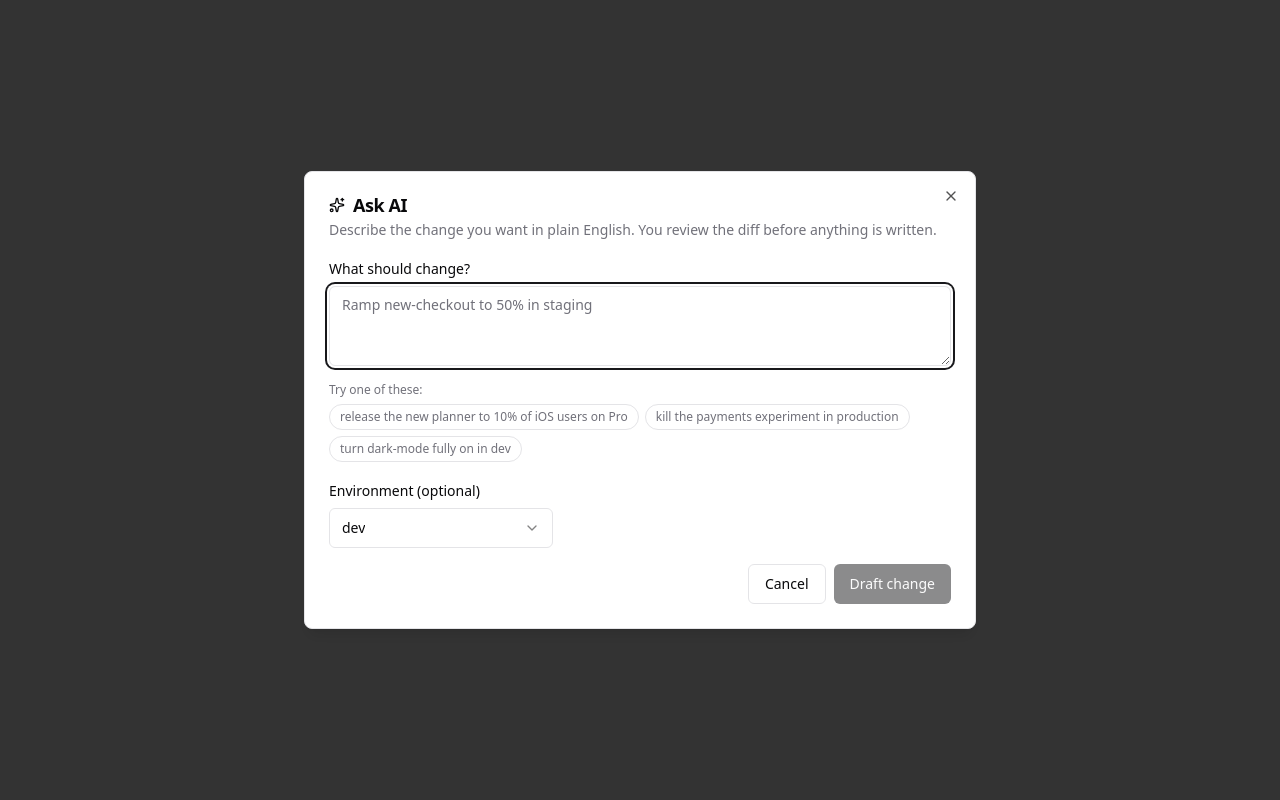
Test: AskAiDialog › shows a real failure as an error and leaves submit usable
The width and height of the screenshot is (1280, 800).
In the text box with test id "ask-ai-prompt": (640, 326) [329, 286, 951, 366], type "turn dark-mode fully on in dev"
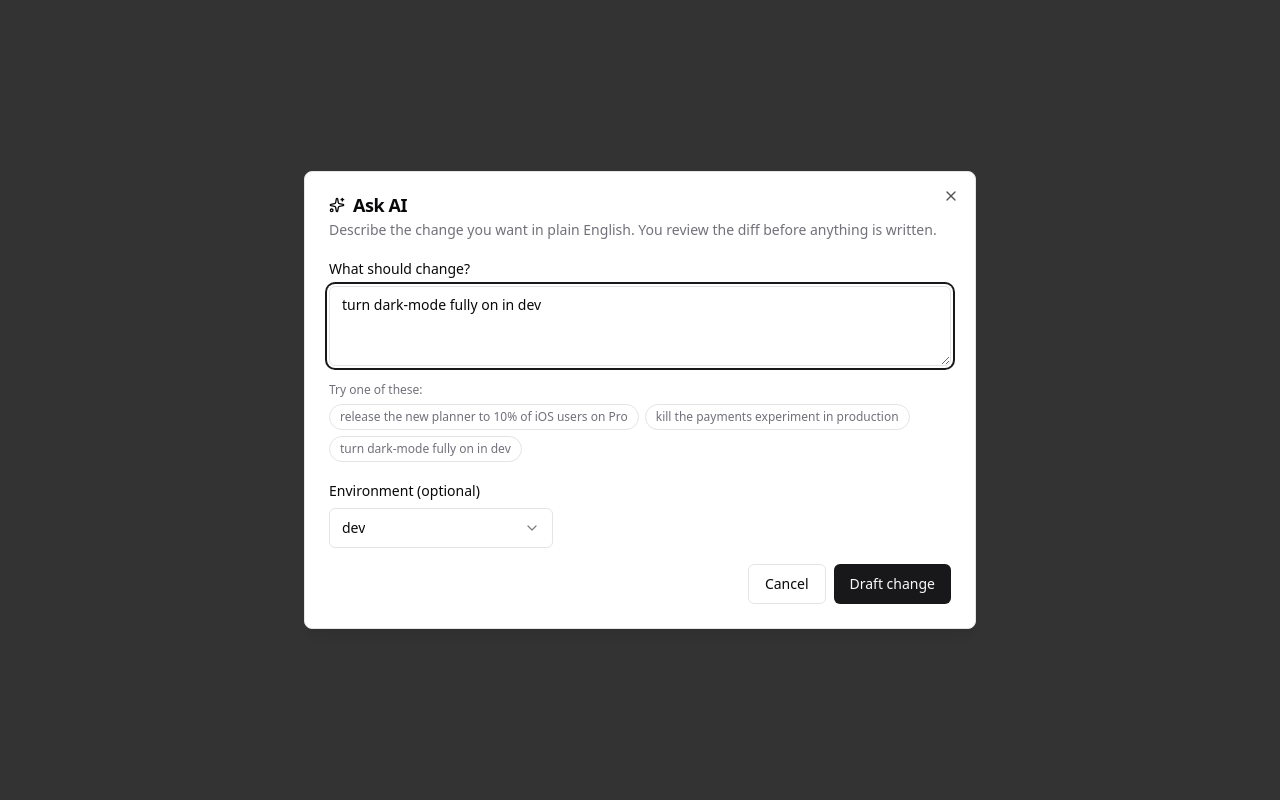
Click the button with test id "ask-ai-submit": (892, 584) [834, 564, 951, 604]
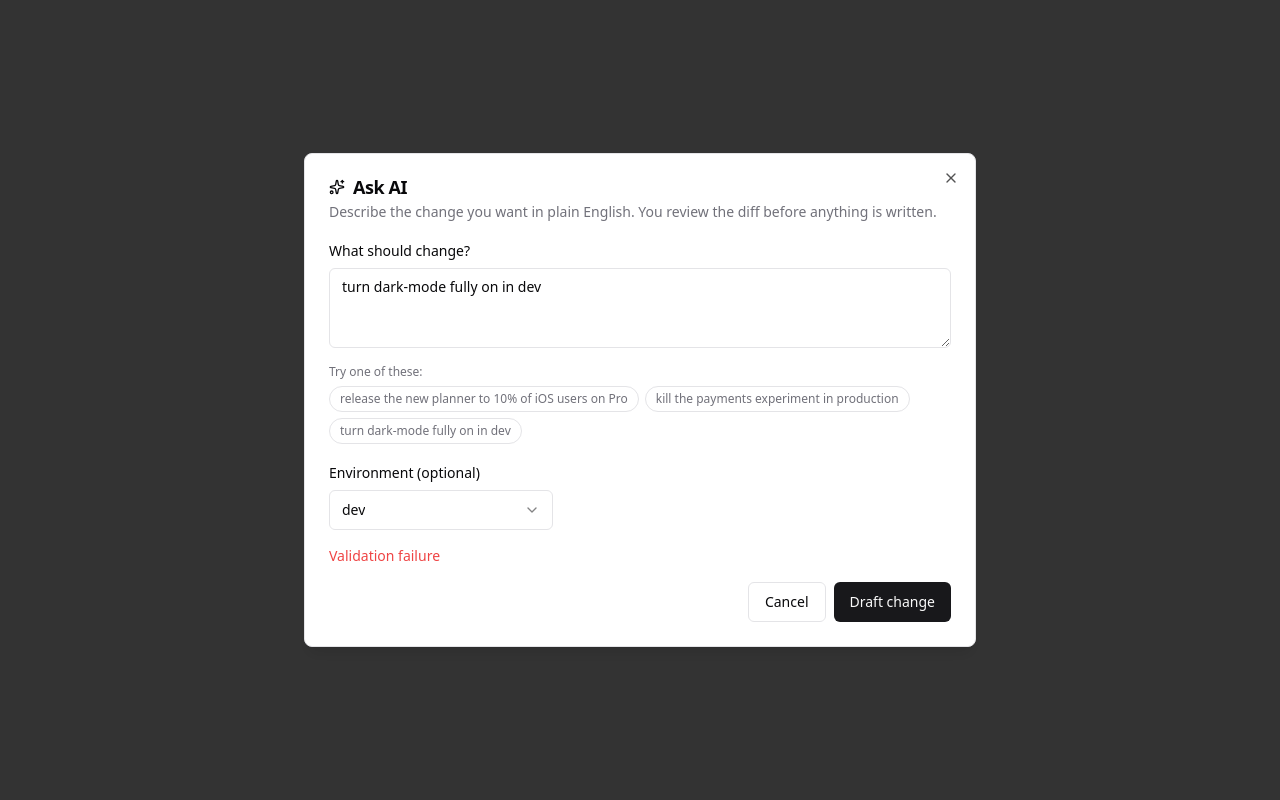
Check: the button with test id "ask-ai-submit" is enabled, box [834, 582, 951, 622]
Check: the message with test id "ask-ai-error" reads "Validation failure", box [329, 546, 440, 565]
